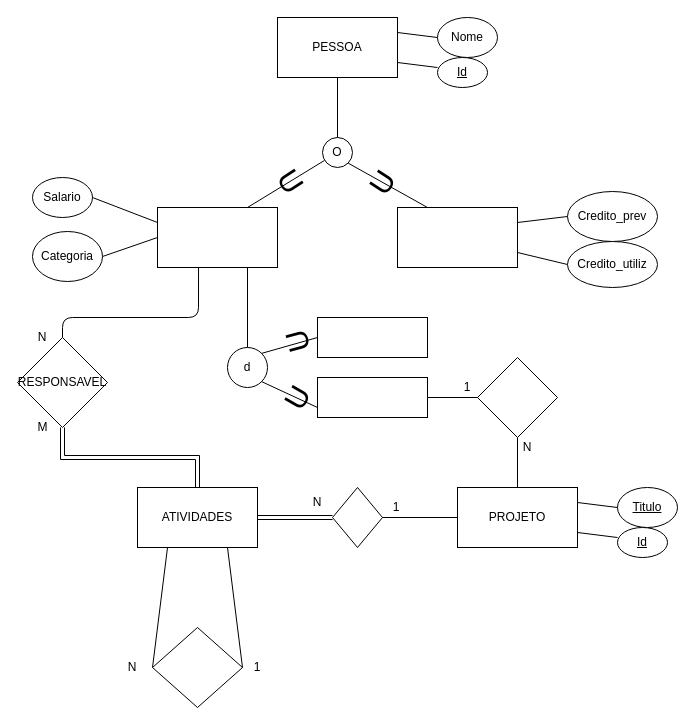
The diagram is 695 pixels wide and 725 high, and some of its shapes have lost their labels. Here are the shapes that lost their labels. From the top down, the centre of each, then its label:
At (217,237): "FUNCIONARIO".
At (457,237): "CLIENTE".
At (372,337): "M-MEDIO".
At (372,397): "S-SUPERIOR".
At (517,397): "COORDENA".
At (357,517): "TEM".
At (197,667): "SUBATIVIDADE".
